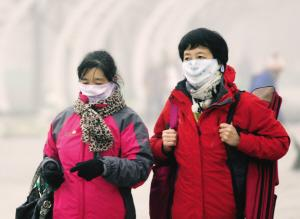face_mask: (183, 45, 215, 82), (79, 68, 110, 99)
